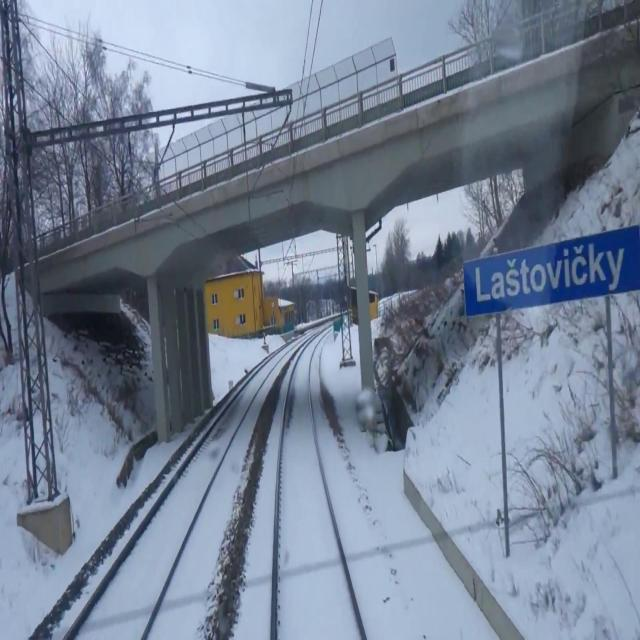rail-track: (70, 348, 287, 639), (276, 334, 361, 639)
